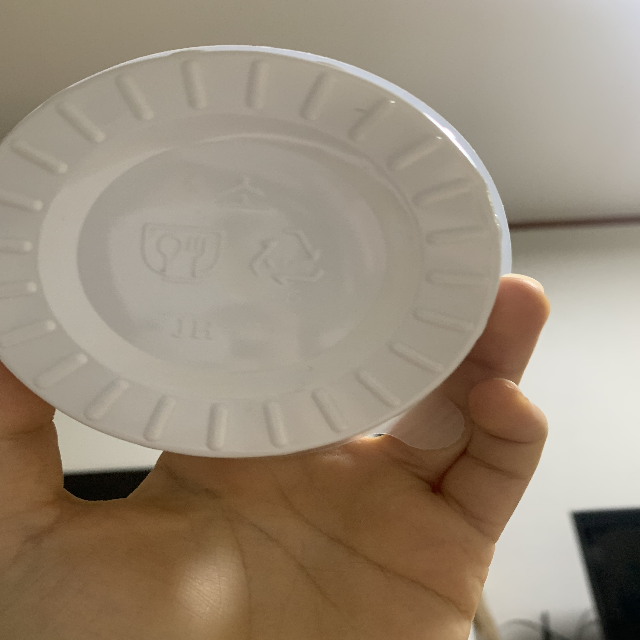ps: (246, 222, 328, 312)
